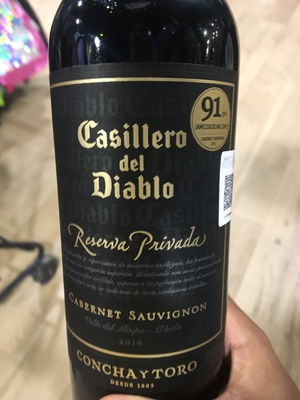casillero del diablo reserva privada cabernet sauvignon: (46, 3, 251, 397)
